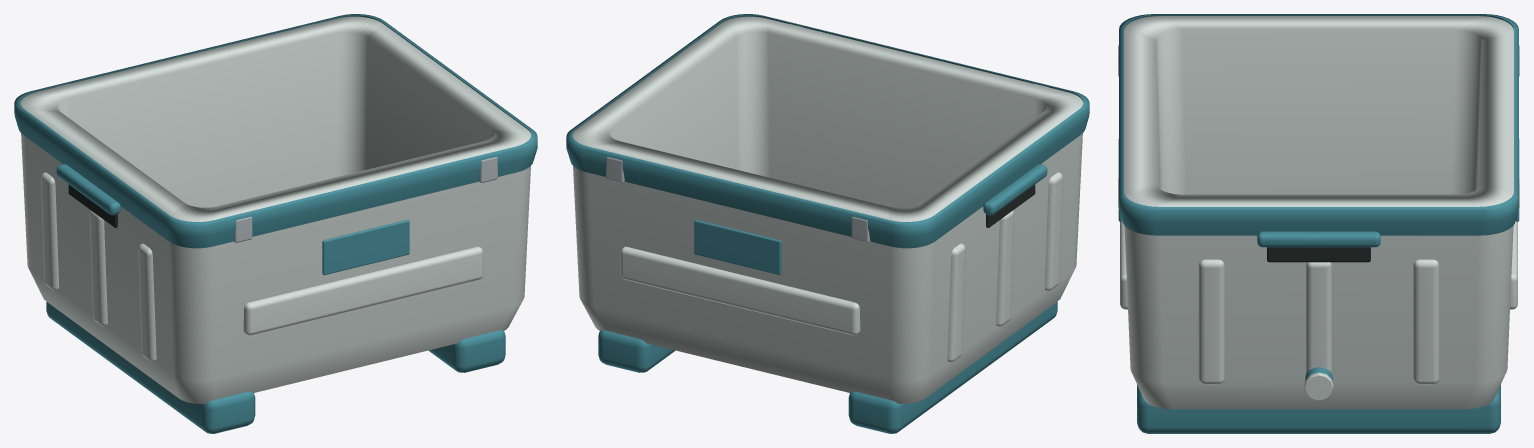
File: insulated_catch_tank.glb
The picture shows the model from 3 angles, left to right: view 1: azimuth 30°, elevation 25°; view 2: azimuth 150°, elevation 25°; view 3: azimuth 270°, elevation 25°; orthographic projection. The views are drawn at different scales.
Parts seen in each view (by area): view 1: Fixed_FishBoxPolymer, Fixed_FishBoxBlue, Fixed_Stainless, Fixed_Rubber; view 2: Fixed_FishBoxPolymer, Fixed_FishBoxBlue, Fixed_Stainless, Fixed_Rubber; view 3: Fixed_FishBoxPolymer, Fixed_FishBoxBlue, Fixed_Rubber.
Part boxes in pixels (x1=…): Fixed_FishBoxPolymer: x1=20, y1=16, x2=531, y2=403; Fixed_FishBoxBlue: x1=14, y1=14, x2=537, y2=433; Fixed_Stainless: x1=56, y1=23, x2=497, y2=242; Fixed_Rubber: x1=68, y1=184, x2=117, y2=227; Fixed_FishBoxPolymer: x1=572, y1=16, x2=1083, y2=403; Fixed_FishBoxBlue: x1=566, y1=14, x2=1089, y2=433; Fixed_Stainless: x1=606, y1=23, x2=1047, y2=242; Fixed_Rubber: x1=986, y1=184, x2=1035, y2=227; Fixed_FishBoxPolymer: x1=1120, y1=16, x2=1517, y2=409; Fixed_FishBoxBlue: x1=1118, y1=14, x2=1519, y2=433; Fixed_Rubber: x1=1267, y1=247, x2=1370, y2=262.
Size of the model in its own units: 1.52 by 0.835 by 1.23.
